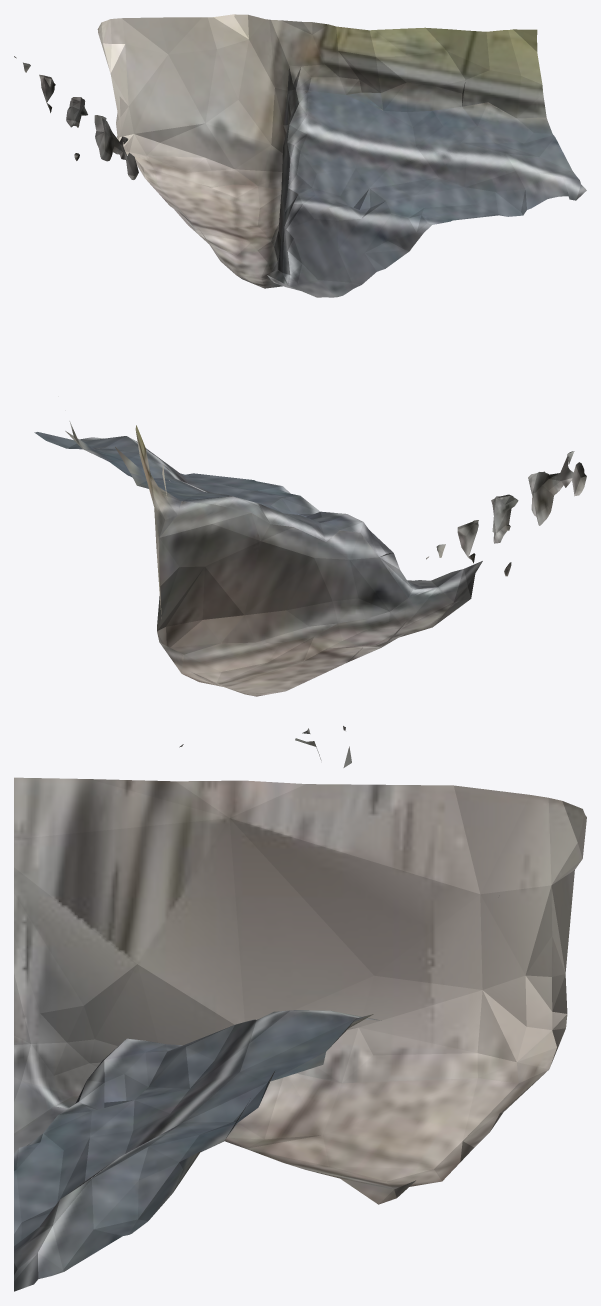
3 views of the same model, one above another, from view 1: azimuth 30°, elevation 25°; view 2: azimuth 150°, elevation 25°; view 3: azimuth 270°, elevation 25° (orthographic). The views are drawn at different scales.
Size of the model in its own units: 1.67 by 0.6492 by 1.16.
Materials: 2 (2 with a texture image).
